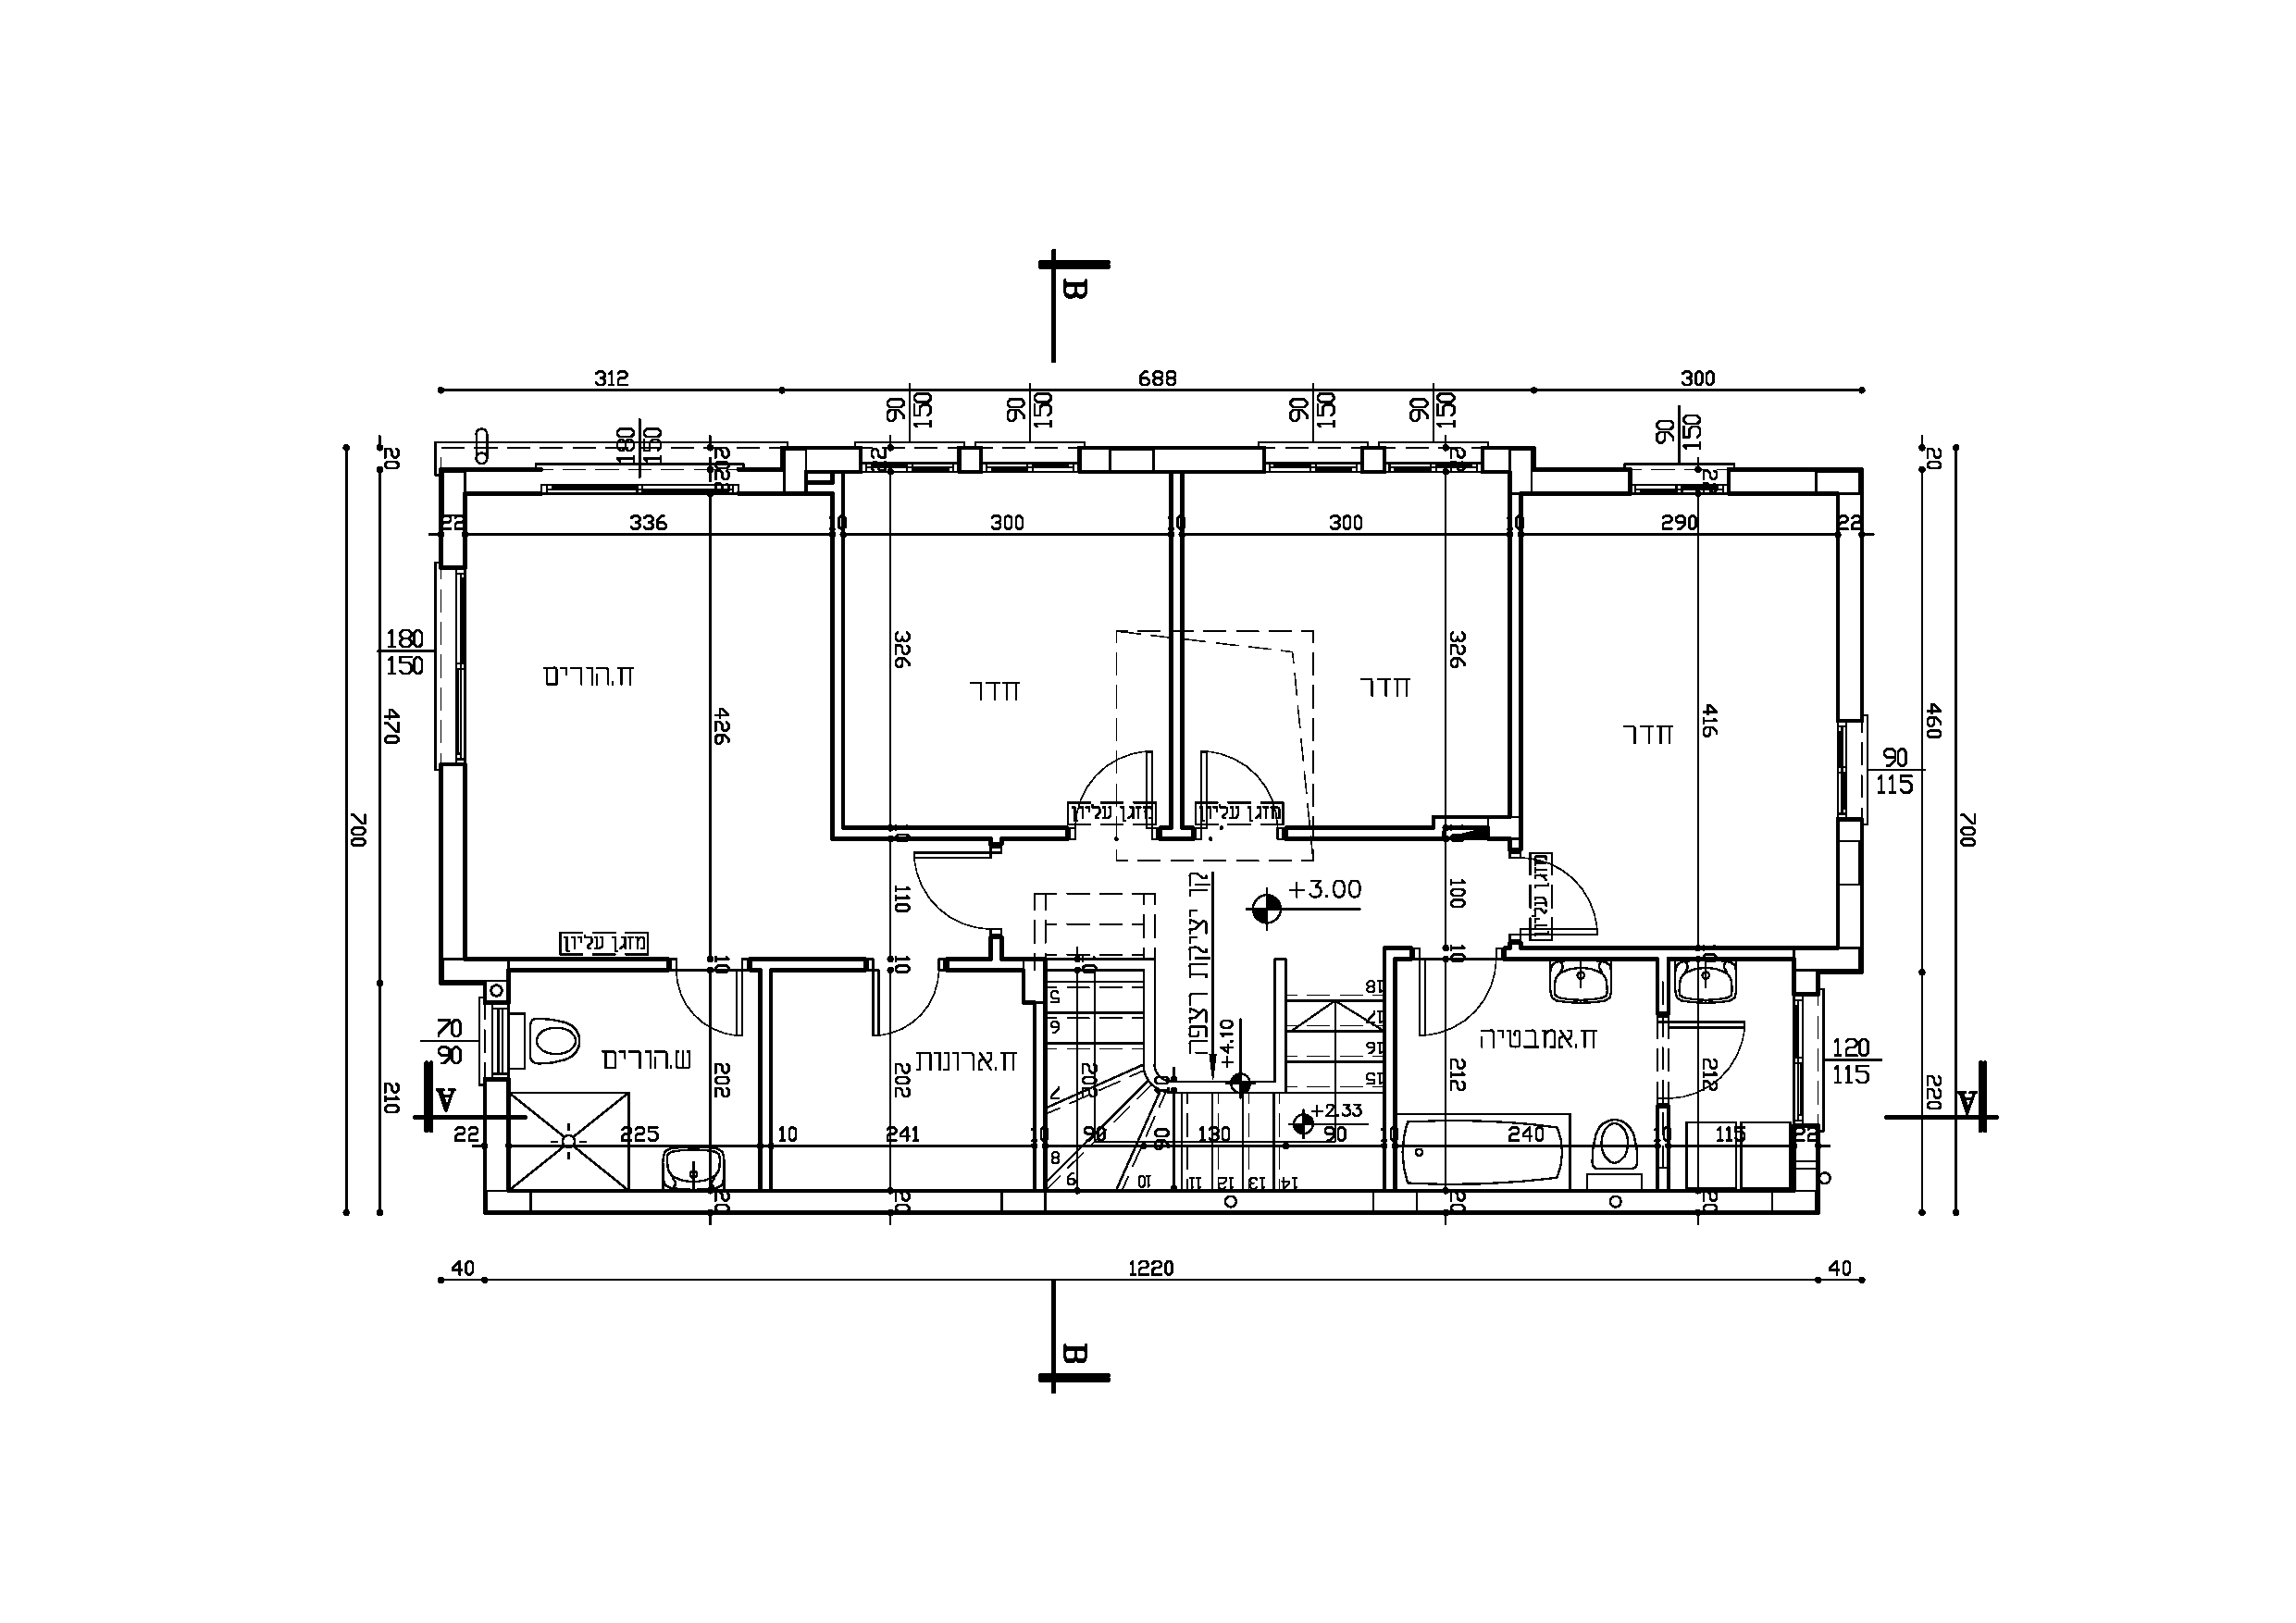door: (1405, 973, 1504, 1042), (912, 843, 980, 934), (861, 980, 940, 1050), (673, 978, 752, 1049)
wall: (441, 764, 467, 957), (1168, 532, 1184, 824), (1509, 532, 1523, 806), (831, 534, 843, 841), (531, 1193, 697, 1214), (1045, 1193, 1226, 1212)
